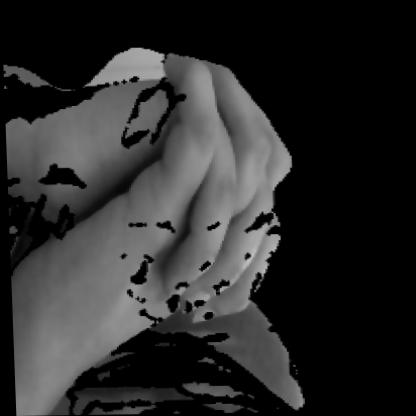prayer: (22, 51, 310, 339)
